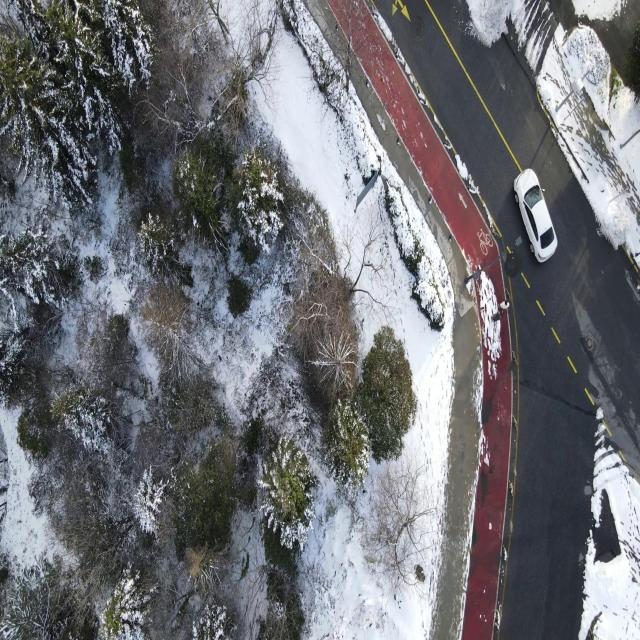p3rson: (498, 300, 510, 313), (491, 310, 501, 323)
